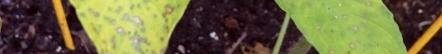Tomato Septoria leaf spot: (238, 0, 429, 54), (59, 0, 204, 54)
